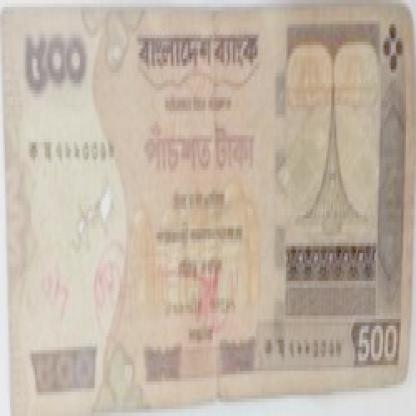500 taka: (110, 94, 271, 201), (13, 31, 100, 104)
currency: (0, 7, 413, 402)
